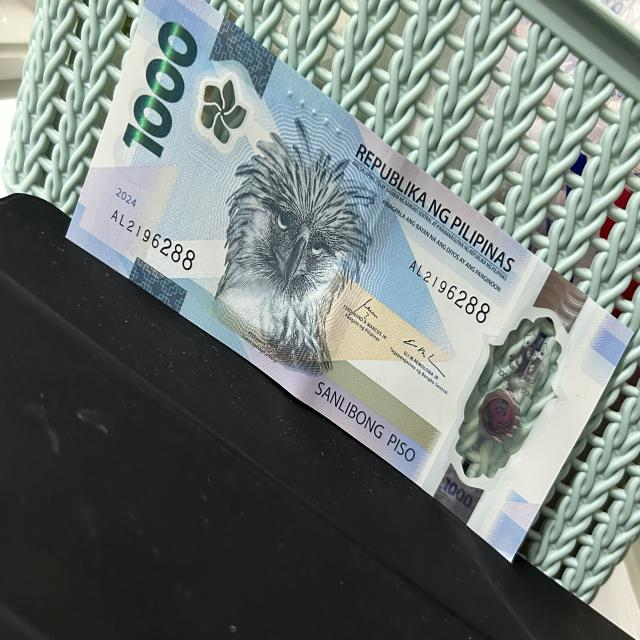clear_window: (452, 287, 560, 487)
eagle: (223, 126, 358, 352)
sampaguita: (201, 72, 252, 147)
